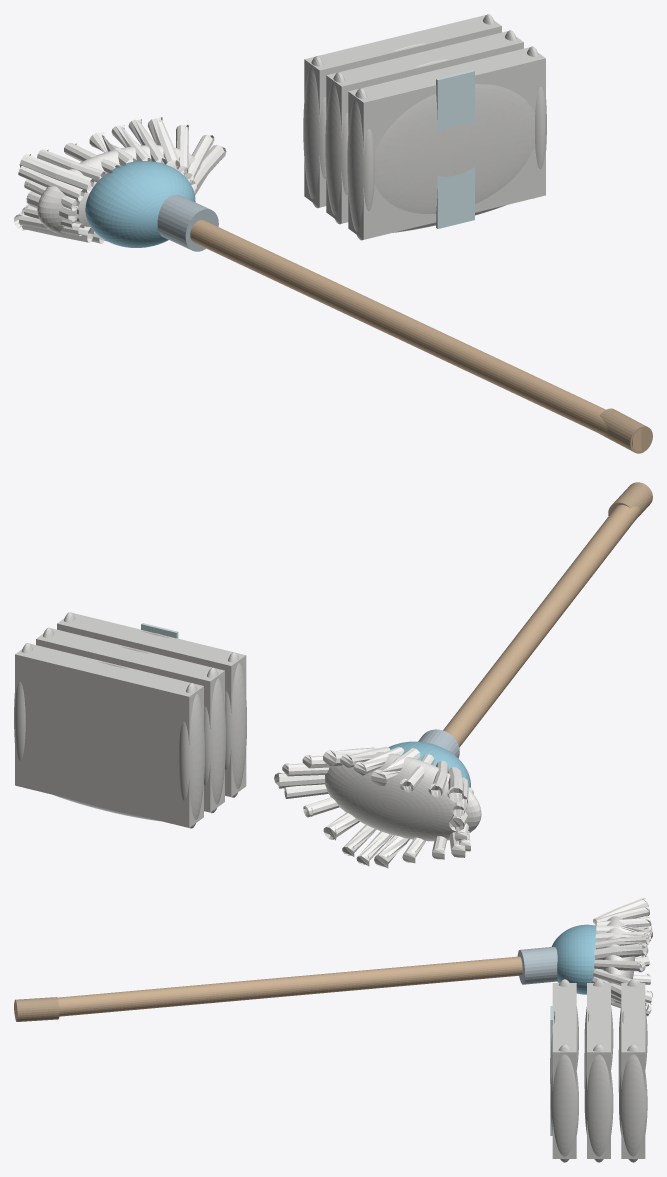
Rendered from HotelTogether_Housekeeping_Mop_Towels_V1.glb.
3 views of the same model, one above another, from view 1: azimuth 30°, elevation 25°; view 2: azimuth 150°, elevation 25°; view 3: azimuth 270°, elevation 25° (orthographic). The views are drawn at different scales.
Parts seen in each view (by area): view 1: Towel_Top_Soft_Layer_2, Mop_Wooden_Handle, Folded_Towel_2, Mop_Blue_Collar, Folded_Towel_1, Folded_Towel_0, Towel_Stack_Blue_Band, Towel_Soft_Edge_2_-1, Towel_Soft_Edge_1_-1, Towel_Soft_Edge_0_-1, Mop_Fabric_Head, Mop_Metal_Ferrule (+7 smaller); view 2: Folded_Towel_0, Mop_Fabric_Head, Mop_Wooden_Handle, Folded_Towel_2, Folded_Towel_1, Towel_Soft_Edge_0_-1, Towel_Soft_Edge_1_-1, Towel_Soft_Edge_2_-1, Mop_Blue_Collar, Towel_Soft_Edge_0_1, Mop_Grip_End, Mop_String_06 (+3 smaller); view 3: Mop_Wooden_Handle, Towel_Soft_Edge_1_1, Towel_Soft_Edge_0_1, Towel_Soft_Edge_2_1, Folded_Towel_0, Folded_Towel_2, Mop_Blue_Collar, Folded_Towel_1, Mop_Metal_Ferrule, Mop_Grip_End, Mop_Fabric_Head, Mop_String_03 (+3 smaller).
Boxes of the visible parts, left/top/right/bottom form: Towel_Top_Soft_Layer_2: left=374, top=84, right=534, bottom=213; Mop_Wooden_Handle: left=190, top=220, right=641, bottom=451; Folded_Towel_2: left=348, top=47, right=545, bottom=239; Mop_Blue_Collar: left=85, top=161, right=195, bottom=247; Folded_Towel_1: left=326, top=31, right=523, bottom=223; Folded_Towel_0: left=304, top=15, right=501, bottom=207; Towel_Stack_Blue_Band: left=436, top=70, right=474, bottom=228; Towel_Soft_Edge_2_-1: left=347, top=88, right=374, bottom=240; Towel_Soft_Edge_1_-1: left=325, top=72, right=348, bottom=224; Towel_Soft_Edge_0_-1: left=303, top=56, right=326, bottom=208; Mop_Fabric_Head: left=37, top=145, right=200, bottom=234; Mop_Metal_Ferrule: left=157, top=195, right=218, bottom=251; Folded_Towel_0: left=15, top=643, right=203, bottom=827; Mop_Fabric_Head: left=325, top=752, right=481, bottom=841; Mop_Wooden_Handle: left=443, top=505, right=640, bottom=747; Folded_Towel_2: left=57, top=613, right=246, bottom=797; Folded_Towel_1: left=36, top=628, right=224, bottom=812; Towel_Soft_Edge_0_-1: left=178, top=683, right=204, bottom=828; Towel_Soft_Edge_1_-1: left=204, top=667, right=225, bottom=813; Towel_Soft_Edge_2_-1: left=225, top=652, right=246, bottom=797; Mop_Blue_Collar: left=388, top=741, right=470, bottom=787; Towel_Soft_Edge_0_1: left=14, top=643, right=33, bottom=788; Mop_Grip_End: left=608, top=482, right=652, bottom=519; Mop_String_06: left=371, top=748, right=420, bottom=785; Mop_Wooden_Handle: left=14, top=956, right=522, bottom=1018; Towel_Soft_Edge_1_1: left=584, top=1044, right=613, bottom=1162; Towel_Soft_Edge_0_1: left=619, top=1044, right=647, bottom=1162; Towel_Soft_Edge_2_1: left=550, top=1044, right=578, bottom=1162; Folded_Towel_0: left=621, top=983, right=645, bottom=1158; Folded_Towel_2: left=552, top=983, right=576, bottom=1158; Mop_Blue_Collar: left=551, top=924, right=598, bottom=994; Folded_Towel_1: left=587, top=983, right=610, bottom=1158; Mop_Metal_Ferrule: left=517, top=946, right=557, bottom=984; Mop_Grip_End: left=14, top=997, right=59, bottom=1021; Mop_Fabric_Head: left=602, top=916, right=634, bottom=1003; Mop_String_03: left=594, top=942, right=647, bottom=959.
Size of the model in its own units: 1.03 by 0.3158 by 1.53.
